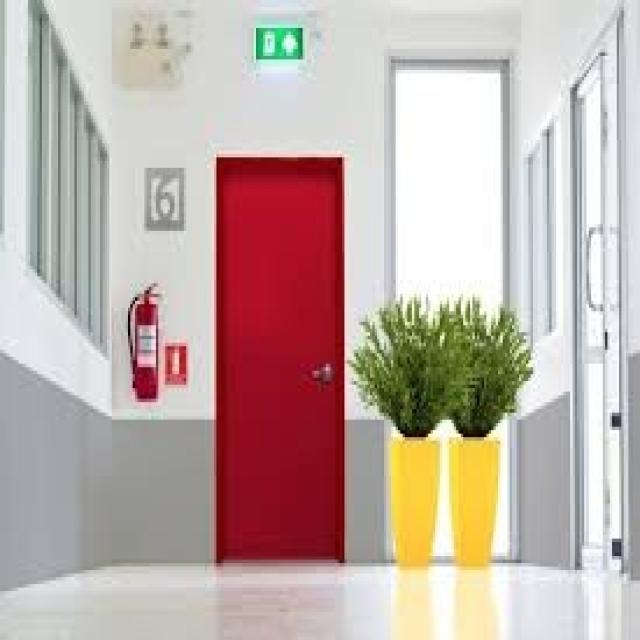door: (215, 154, 346, 563)
